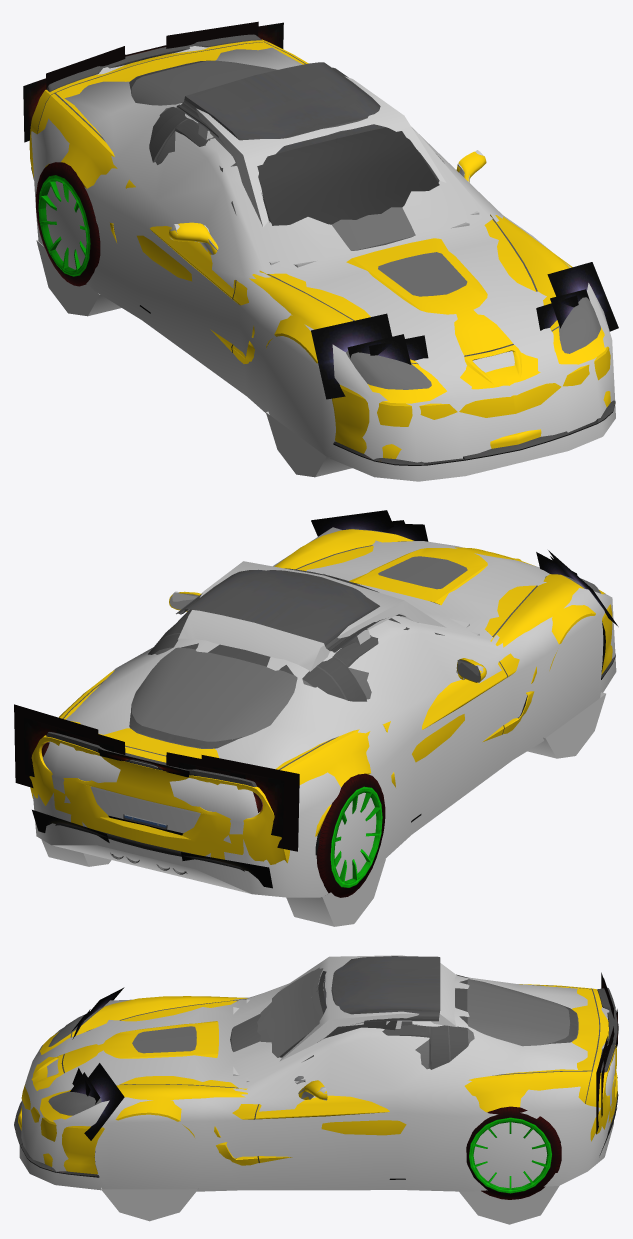
File: P_car-019_Sorvete.fbx
The picture shows the model from 3 angles, top to bottom: view 1: azimuth 30°, elevation 25°; view 2: azimuth 150°, elevation 25°; view 3: azimuth 270°, elevation 25°; orthographic projection. The views are drawn at different scales.
Parts seen in each view (by area): view 1: M_Car-019_ShadowForm_Sorvete_01, M_Car-019_Body_Sorvete_01, M_Car-Interior_Glass_01, M_Car-019_Glass_Sorvete_01, M_Car-Interior_Details_01, M_Car-019_FrontFlares_Sorvete_01, M_Car-019_Details_Sorvete_01, M_Car-Interior_Shadowform_01, M_Car-019_BackFlares_Sorvete_01, M_CarWheel_005_AP_02, M_Car-019_BackFlaresBrake_Sorvete_01, M_CarTire_005_AP_02 (+1 smaller); view 2: M_Car-019_ShadowForm_Sorvete_01, M_Car-019_Body_Sorvete_01, M_Car-019_Glass_Sorvete_01, M_Car-Interior_Details_01, M_Car-019_Details_Sorvete_01, M_Car-Interior_Shadowform_01, M_Car-019_BackFlares_Sorvete_01, M_Car-019_BackFlaresBrake_Sorvete_01, M_Car-019_FrontFlares_Sorvete_01, M_CarWheel_005_AP_02, M_Car-019_BackLights_Sorvete_01, M_CarTire_005_AP_02 (+1 smaller); view 3: M_Car-019_ShadowForm_Sorvete_01, M_Car-019_Body_Sorvete_01, M_Car-019_Glass_Sorvete_01, M_Car-Interior_Details_01, M_Car-019_Details_Sorvete_01, M_Car-Interior_Glass_01, M_Car-Interior_Shadowform_01, M_CarWheel_005_AP_02, M_Car-019_FrontFlares_Sorvete_01, M_CarTire_005_AP_02, M_CarTire_005_AP_01, M_Car-019_BackFlares_Sorvete_01.
Part boxes in pixels (<box>): M_Car-019_ShadowForm_Sorvete_01: <box>31,46,615,481</box>; M_Car-019_Body_Sorvete_01: <box>29,39,610,458</box>; M_Car-Interior_Glass_01: <box>257,127,439,225</box>; M_Car-019_Glass_Sorvete_01: <box>131,60,600,389</box>; M_Car-Interior_Details_01: <box>176,62,439,222</box>; M_Car-019_FrontFlares_Sorvete_01: <box>311,262,618,399</box>; M_Car-019_Details_Sorvete_01: <box>37,34,615,465</box>; M_Car-Interior_Shadowform_01: <box>178,76,479,267</box>; M_Car-019_BackFlares_Sorvete_01: <box>46,21,258,89</box>; M_CarWheel_005_AP_02: <box>36,162,100,286</box>; M_Car-019_BackFlaresBrake_Sorvete_01: <box>23,22,283,142</box>; M_CarTire_005_AP_02: <box>38,208,90,276</box>; M_Car-019_ShadowForm_Sorvete_01: <box>32,527,616,926</box>; M_Car-019_Body_Sorvete_01: <box>29,529,612,864</box>; M_Car-019_Glass_Sorvete_01: <box>129,529,600,808</box>; M_Car-Interior_Details_01: <box>176,568,405,652</box>; M_Car-019_Details_Sorvete_01: <box>46,541,615,874</box>; M_Car-Interior_Shadowform_01: <box>178,561,479,671</box>; M_Car-019_BackFlares_Sorvete_01: <box>14,704,299,851</box>; M_Car-019_BackFlaresBrake_Sorvete_01: <box>23,717,284,837</box>; M_Car-019_FrontFlares_Sorvete_01: <box>311,510,618,626</box>; M_CarWheel_005_AP_02: <box>316,773,385,897</box>; M_Car-019_BackLights_Sorvete_01: <box>32,810,272,888</box>; M_CarTire_005_AP_02: <box>330,818,382,887</box>; M_Car-019_ShadowForm_Sorvete_01: <box>19,975,615,1224</box>; M_Car-019_Body_Sorvete_01: <box>18,984,617,1174</box>; M_Car-019_Glass_Sorvete_01: <box>48,977,618,1115</box>; M_Car-Interior_Details_01: <box>278,956,440,1081</box>; M_Car-019_Details_Sorvete_01: <box>14,974,618,1179</box>; M_Car-Interior_Glass_01: <box>257,968,397,1057</box>; M_Car-Interior_Shadowform_01: <box>233,955,456,1084</box>; M_CarWheel_005_AP_02: <box>466,1106,561,1199</box>; M_Car-019_FrontFlares_Sorvete_01: <box>70,987,124,1140</box>; M_CarTire_005_AP_02: <box>469,1155,551,1193</box>; M_CarTire_005_AP_01: <box>469,1117,551,1156</box>; M_Car-019_BackFlares_Sorvete_01: <box>596,978,614,1134</box>.
Bounding box in the file's own units: 2.16 × 1.55 × 4.5.
